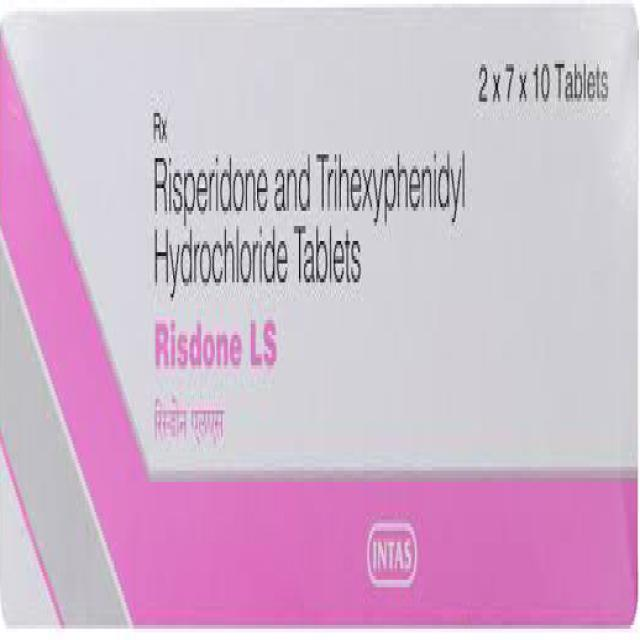drug-name: (147, 314, 287, 374)
